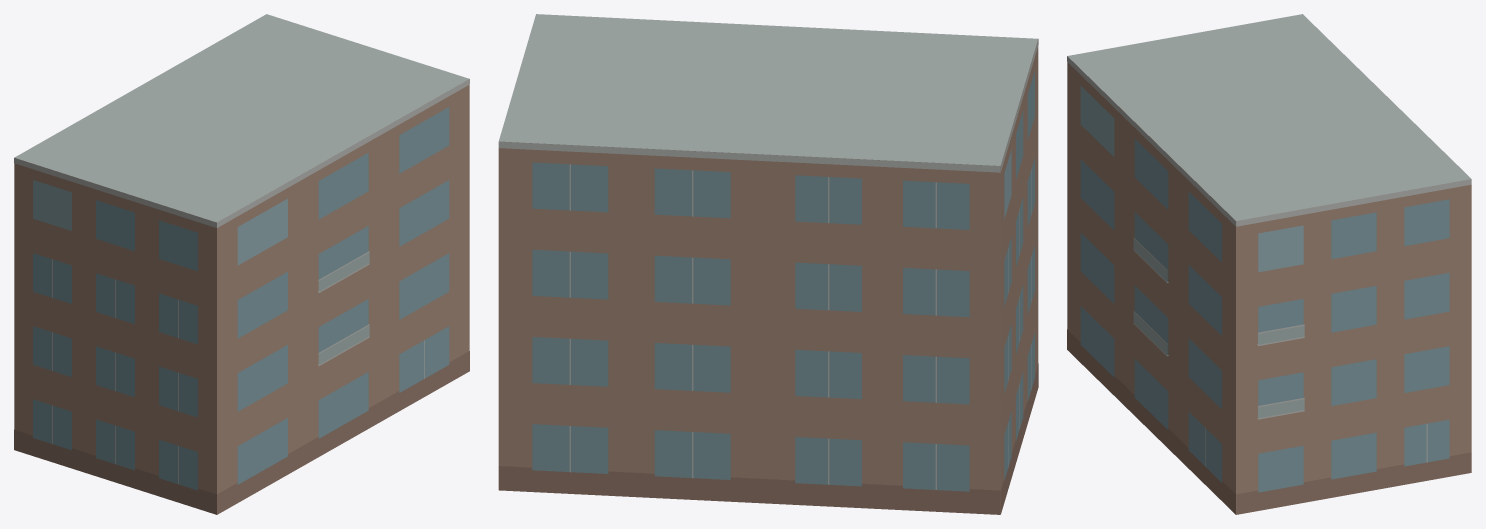
The model's file is survey-upis-32516568.glb.
3 renders of one model, left to right at view 1: azimuth 30°, elevation 25°; view 2: azimuth 150°, elevation 25°; view 3: azimuth 270°, elevation 25°, orthographic. The views are drawn at different scales.
Parts seen in each view (by area): view 1: survey-upis-32516568.tmp; view 2: survey-upis-32516568.tmp; view 3: survey-upis-32516568.tmp.
Part boxes in pixels (x1,y1,x2,y2): survey-upis-32516568.tmp: (14, 14, 469, 514); survey-upis-32516568.tmp: (498, 14, 1038, 514); survey-upis-32516568.tmp: (1067, 14, 1471, 514).
Size of the model in its own units: 19.37 by 12.8 by 15.99.
